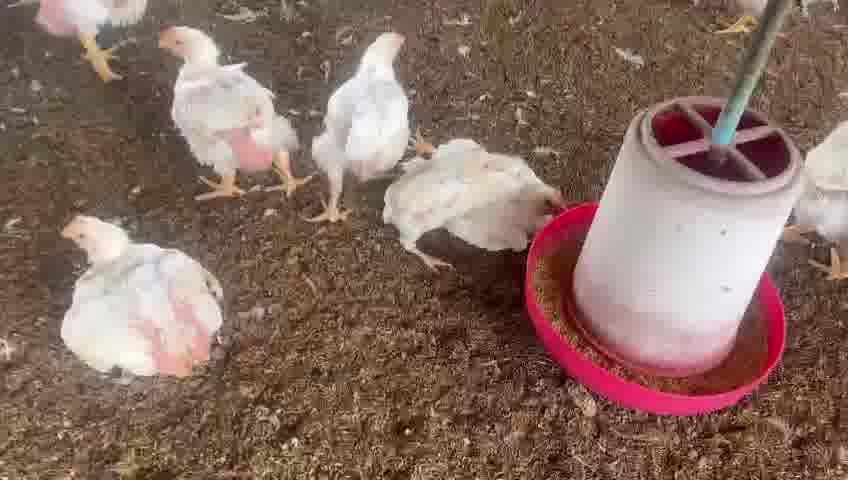AbNormal: (393, 117, 566, 271), (60, 215, 222, 379)
Normal: (159, 24, 309, 200), (312, 30, 406, 225), (23, 3, 152, 80)
